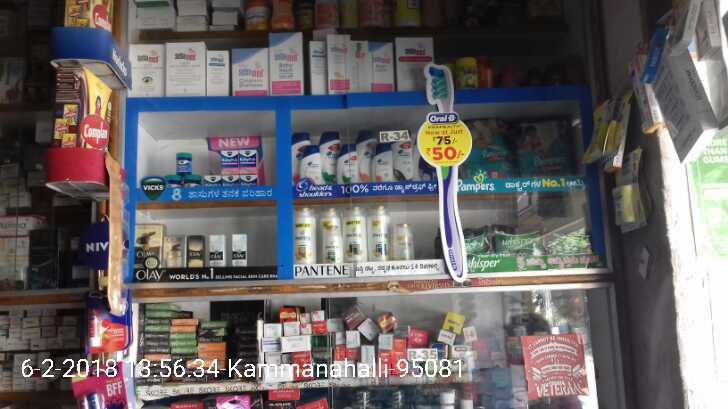beauty: (342, 205, 369, 263), (322, 205, 342, 270), (133, 223, 163, 266), (368, 205, 390, 260), (368, 146, 396, 187), (392, 136, 415, 183), (294, 209, 314, 263), (299, 146, 319, 189), (394, 221, 417, 258), (336, 141, 355, 182), (230, 234, 247, 269), (187, 236, 204, 267), (165, 236, 182, 267), (208, 233, 223, 267)
pharmacy: (516, 117, 577, 186), (460, 119, 511, 179), (491, 221, 544, 261), (175, 150, 195, 180), (219, 148, 239, 174), (239, 148, 259, 174)
